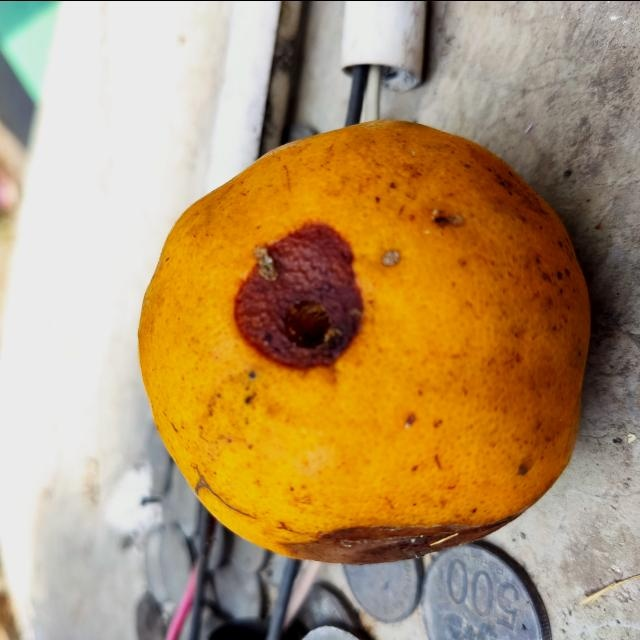agrume: (134, 116, 595, 568)
